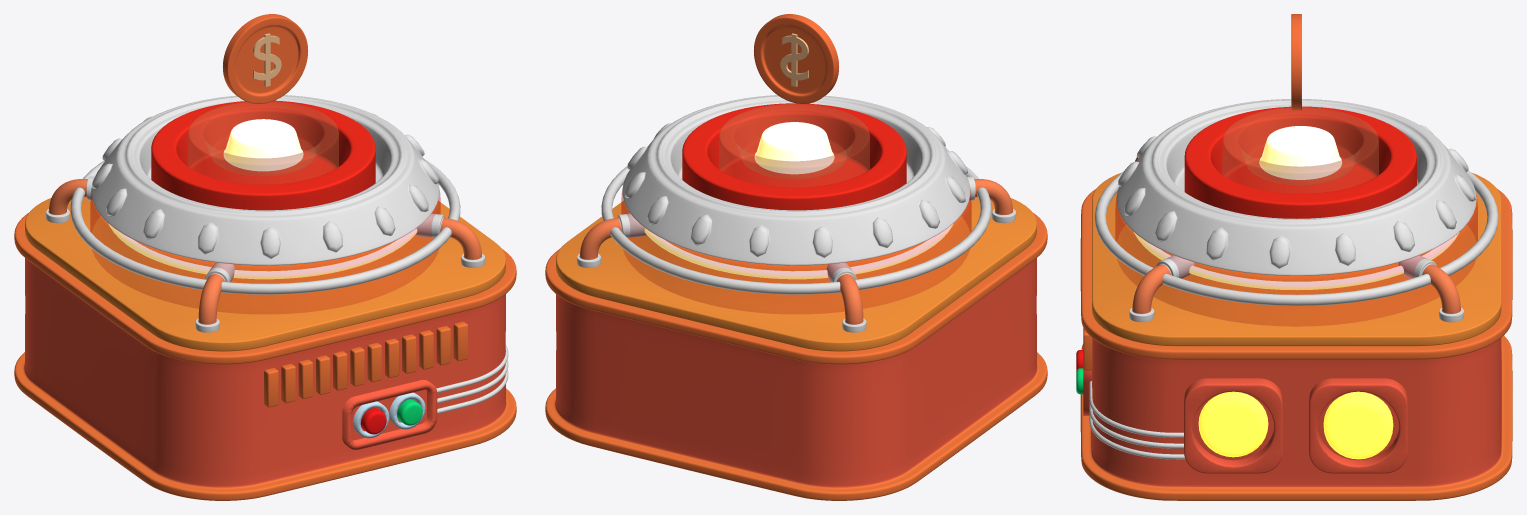
The model's file is scroll-scene.glb.
3 views of the same model, side by side, from view 1: azimuth 30°, elevation 25°; view 2: azimuth 150°, elevation 25°; view 3: azimuth 270°, elevation 25° (orthographic). The views are drawn at different scales.
Parts seen in each view (by area): view 1: CoinStation_Base_Part01, CoinStation_Base_Part12, CoinStation_Rings_Part02, CoinStation_Core_Part01, CoinStation_Rings_Part01, CoinStation_Core_Part02, CoinStation_Base_Part02, CoinStation_Rings_Part04, CoinStation_Coin_Part01, CoinStation_Rings_Part03, CoinStation_Base_Part03, CoinStation_Rings_Part05 (+4 smaller); view 2: CoinStation_Base_Part01, CoinStation_Rings_Part02, CoinStation_Base_Part12, CoinStation_Core_Part01, CoinStation_Rings_Part01, CoinStation_Core_Part02, CoinStation_Rings_Part04, CoinStation_Coin_Part01, CoinStation_Rings_Part03, CoinStation_Rings_Part05, CoinStation_Coin_Part02; view 3: CoinStation_Base_Part01, CoinStation_Rings_Part02, CoinStation_Base_Part12, CoinStation_Core_Part01, CoinStation_Rings_Part01, CoinStation_Core_Part02, CoinStation_Rings_Part04, CoinStation_Base_Part10, CoinStation_Base_Part08, CoinStation_Base_Part14, CoinStation_Base_Part13, CoinStation_Rings_Part03 (+3 smaller).
Part boxes in pixels (bbox=[...]): CoinStation_Base_Part01: bbox=[14, 213, 516, 500]; CoinStation_Base_Part12: bbox=[25, 197, 505, 351]; CoinStation_Rings_Part02: bbox=[91, 95, 439, 265]; CoinStation_Core_Part01: bbox=[151, 100, 375, 210]; CoinStation_Rings_Part01: bbox=[90, 190, 440, 313]; CoinStation_Core_Part02: bbox=[188, 101, 338, 184]; CoinStation_Base_Part02: bbox=[264, 321, 467, 407]; CoinStation_Rings_Part04: bbox=[70, 159, 460, 294]; CoinStation_Coin_Part01: bbox=[223, 14, 307, 103]; CoinStation_Rings_Part03: bbox=[45, 176, 485, 332]; CoinStation_Base_Part03: bbox=[342, 380, 437, 449]; CoinStation_Rings_Part05: bbox=[108, 223, 417, 279]; CoinStation_Base_Part01: bbox=[545, 213, 1047, 500]; CoinStation_Rings_Part02: bbox=[622, 95, 970, 265]; CoinStation_Base_Part12: bbox=[556, 197, 1036, 351]; CoinStation_Core_Part01: bbox=[682, 103, 906, 210]; CoinStation_Rings_Part01: bbox=[621, 190, 971, 313]; CoinStation_Core_Part02: bbox=[719, 104, 869, 187]; CoinStation_Rings_Part04: bbox=[601, 166, 991, 294]; CoinStation_Coin_Part01: bbox=[754, 14, 838, 103]; CoinStation_Rings_Part03: bbox=[576, 176, 1016, 332]; CoinStation_Rings_Part05: bbox=[644, 223, 953, 279]; CoinStation_Coin_Part02: bbox=[780, 33, 808, 86]; CoinStation_Base_Part01: bbox=[1080, 188, 1512, 500]; CoinStation_Rings_Part02: bbox=[1116, 99, 1476, 275]; CoinStation_Base_Part12: bbox=[1092, 173, 1501, 346]; CoinStation_Core_Part01: bbox=[1184, 106, 1416, 218]; CoinStation_Rings_Part01: bbox=[1115, 196, 1477, 326]; CoinStation_Core_Part02: bbox=[1222, 107, 1378, 193]; CoinStation_Rings_Part04: bbox=[1094, 171, 1498, 305]; CoinStation_Base_Part10: bbox=[1309, 378, 1407, 473]; CoinStation_Base_Part08: bbox=[1184, 378, 1282, 473]; CoinStation_Base_Part14: bbox=[1323, 391, 1393, 459]; CoinStation_Base_Part13: bbox=[1198, 393, 1268, 457]; CoinStation_Rings_Part03: bbox=[1129, 157, 1463, 322].
Size of the model in its own units: 10.72 by 10.57 by 10.65.
